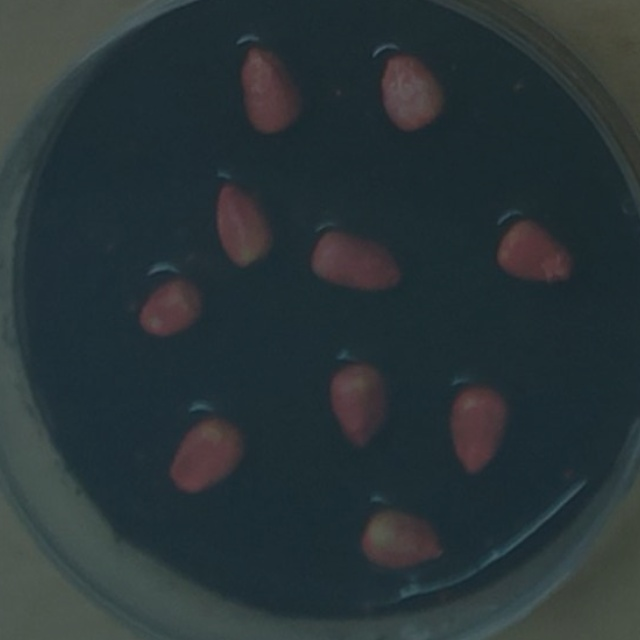Zea mays: (302, 215, 410, 303), (231, 36, 313, 144), (159, 409, 252, 504), (353, 500, 455, 582), (372, 43, 455, 142), (442, 375, 516, 486), (487, 209, 582, 295), (321, 357, 398, 459), (208, 175, 282, 278), (132, 271, 214, 346)
